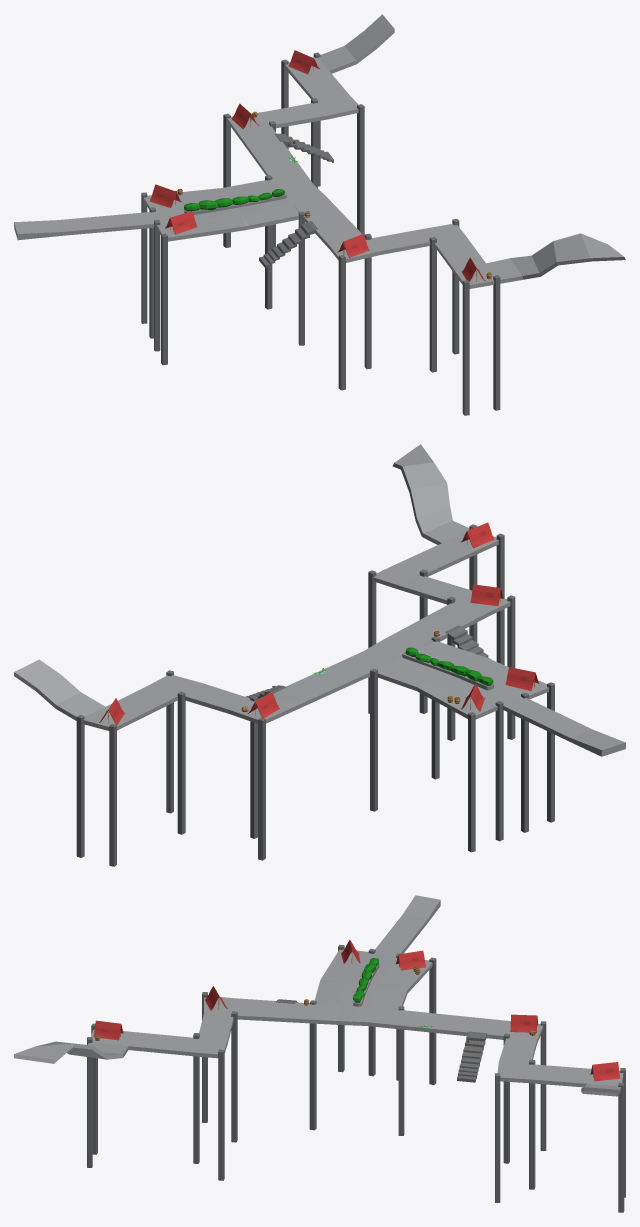
File: village1.glb
3 views of the same model, one above another, from view 1: azimuth 30°, elevation 25°; view 2: azimuth 150°, elevation 25°; view 3: azimuth 270°, elevation 25° (orthographic). The views are drawn at different scales.
Parts seen in each view (by area): view 1: Plane.002, Cube.018, Plane.005, Plane, Cube.001; view 2: Plane.002, Cube.018, Plane.005, Plane, Cube.001; view 3: Plane.002, Cube.018, Plane.005, Plane, Cube.001.
Part boxes in pixels (x1=…): Plane.002: x1=14, y1=14, x2=625, y2=288; Cube.018: x1=141, y1=52, x2=500, y2=415; Plane.005: x1=149, y1=50, x2=485, y2=281; Plane: x1=259, y1=133, x2=333, y2=268; Cube.001: x1=184, y1=189, x2=284, y2=211; Plane.002: x1=14, y1=444, x2=625, y2=756; Cube.018: x1=76, y1=524, x2=554, y2=866; Plane.005: x1=99, y1=522, x2=539, y2=724; Plane: x1=245, y1=625, x2=490, y2=699; Cube.001: x1=405, y1=647, x2=493, y2=685; Plane.002: x1=14, y1=895, x2=623, y2=1096; Cube.018: x1=87, y1=944, x2=625, y2=1212; Plane.005: x1=93, y1=940, x2=620, y2=1081; Plane: x1=276, y1=999, x2=486, y2=1082; Cube.001: x1=353, y1=958, x2=378, y2=1002.
Size of the model in its own units: 25.23 by 8.42 by 29.35.
